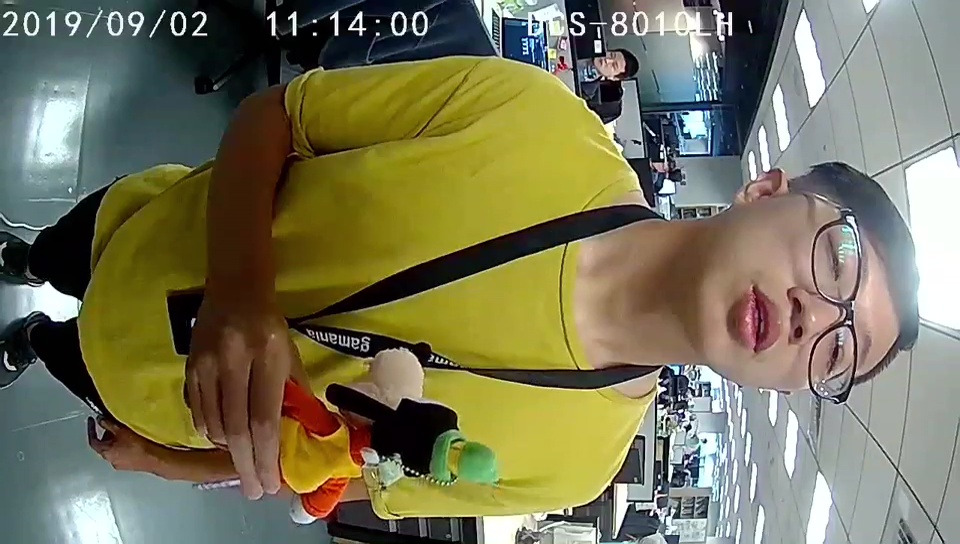goofy: (290, 370, 500, 522)
